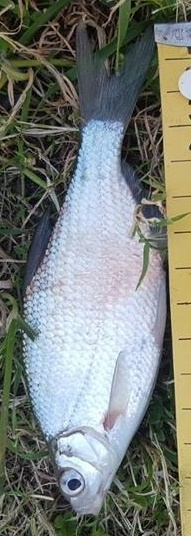Blicca bjoerkna: (20, 20, 171, 516)
